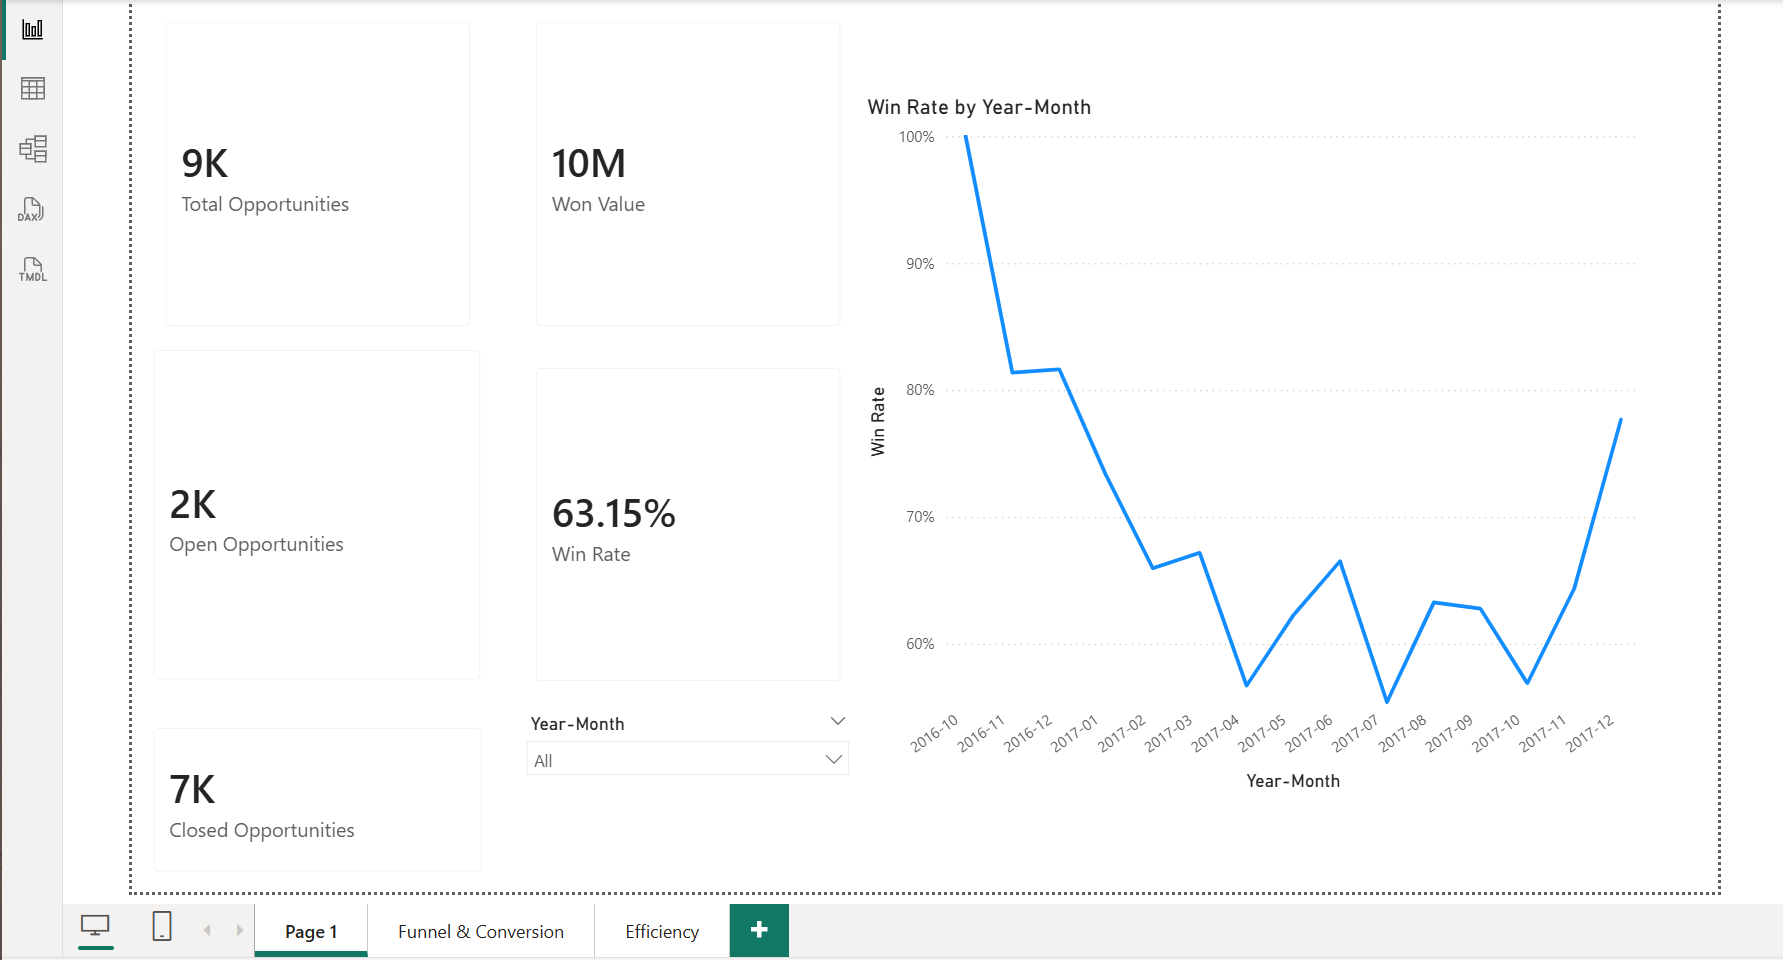

Layout of this report page (visuals, bound fields, positions):
{"tool":"powerbi","page":{"name":"Page 1","canvas":[1280,720],"ordinal":0},"visuals":[{"type":"cardVisual","fields":{"Data":["Sales_Pipeline.Total Opportunities"]},"box":[10,0,280,280],"z":0},{"type":"cardVisual","fields":{"Data":["Sales_Pipeline.Open Opportunities"]},"box":[0,265.5,299,300.8],"z":1000},{"type":"cardVisual","fields":{"Data":["Sales_Pipeline.Closed Opportunities"]},"box":[0,570,299,150],"z":2000},{"type":"cardVisual","fields":{"Data":["Sales_Pipeline.Won Value"]},"box":[309,0,280,280],"z":3000},{"type":"cardVisual","fields":{"Data":["Sales_Pipeline.Win Rate"]},"box":[309,280,280,287],"z":4000},{"type":"slicer","fields":{"Values":["Calendar.Year-Month"]},"box":[309,570,280,150],"z":5000},{"type":"lineChart","fields":{"Y":["Sales_Pipeline.Win Rate"],"Category":["Calendar.Year-Month"]},"box":[588.6,76.1,633.2,566.3],"z":6000}]}

Visuals, with their boxes on the page's 1280x720 design canvas (x1, y1, x2, y2). These are canvas units, not pixel positions in the 1783x960 screenshot, which may show the page scaled, cropped or inside an application window:
cardVisual - Sales_Pipeline.Total Opportunities: region(10, 0, 290, 280)
cardVisual - Sales_Pipeline.Open Opportunities: region(0, 266, 299, 566)
cardVisual - Sales_Pipeline.Closed Opportunities: region(0, 570, 299, 720)
cardVisual - Sales_Pipeline.Won Value: region(309, 0, 589, 280)
cardVisual - Sales_Pipeline.Win Rate: region(309, 280, 589, 567)
slicer - Calendar.Year-Month: region(309, 570, 589, 720)
lineChart - Sales_Pipeline.Win Rate x Calendar.Year-Month: region(589, 76, 1222, 642)
